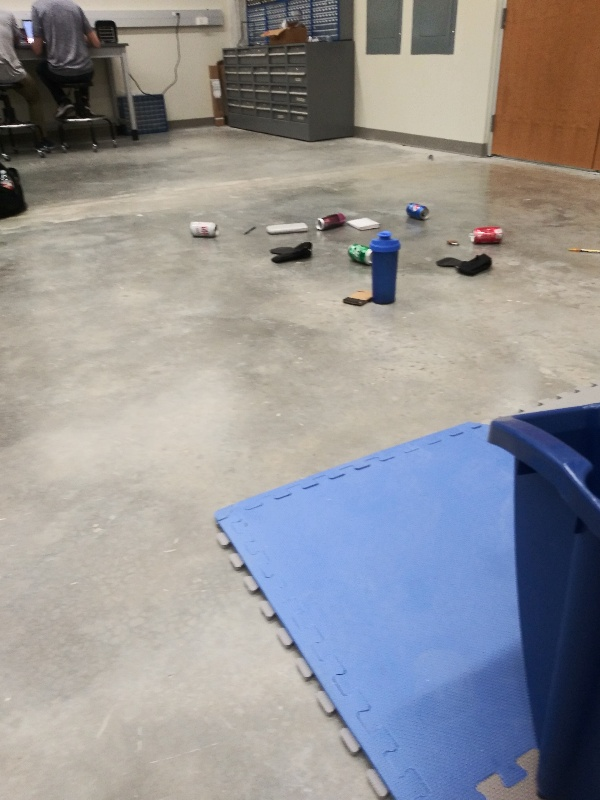can: (466, 225, 505, 246), (344, 241, 375, 267), (311, 212, 349, 233), (187, 218, 222, 238), (405, 201, 430, 224)
